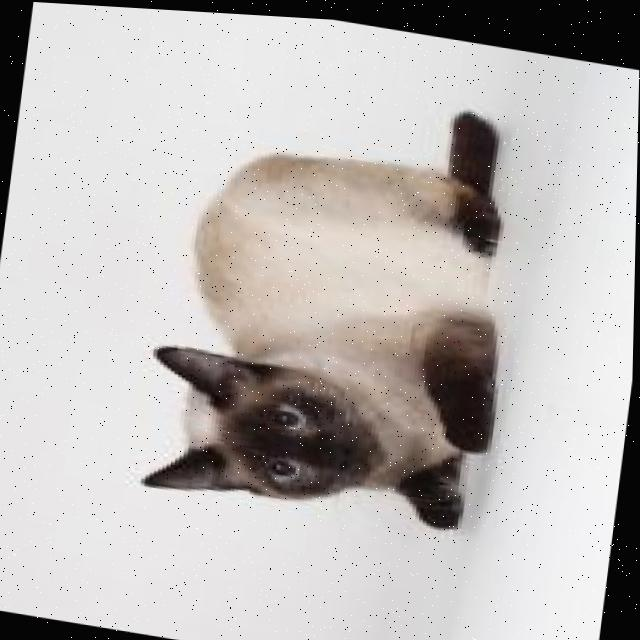Siamese: (129, 55, 539, 542)
